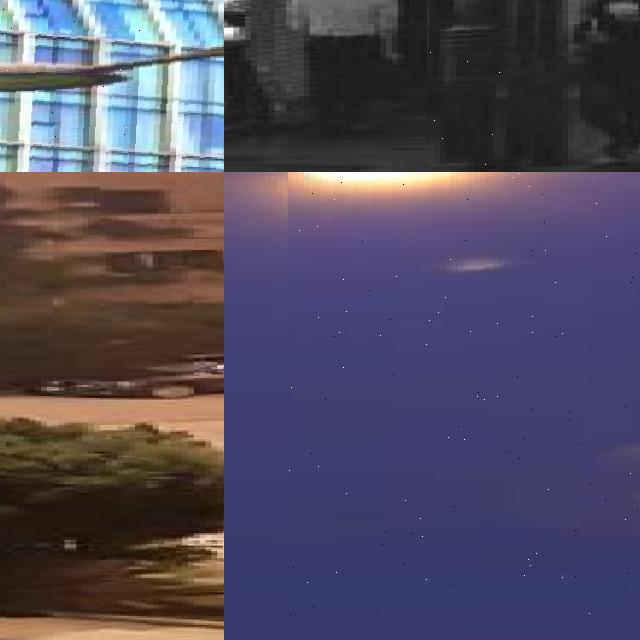street light: (288, 172, 640, 640), (0, 0, 224, 172), (427, 0, 562, 166)
